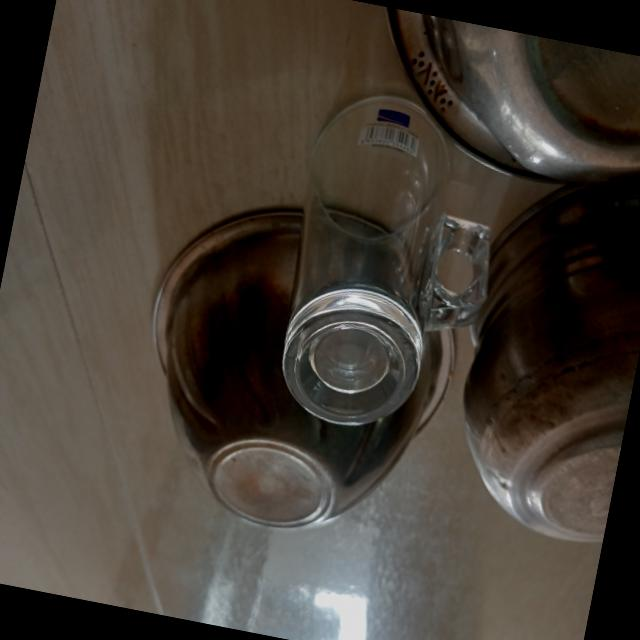glass-VX4N: (256, 66, 524, 453)
